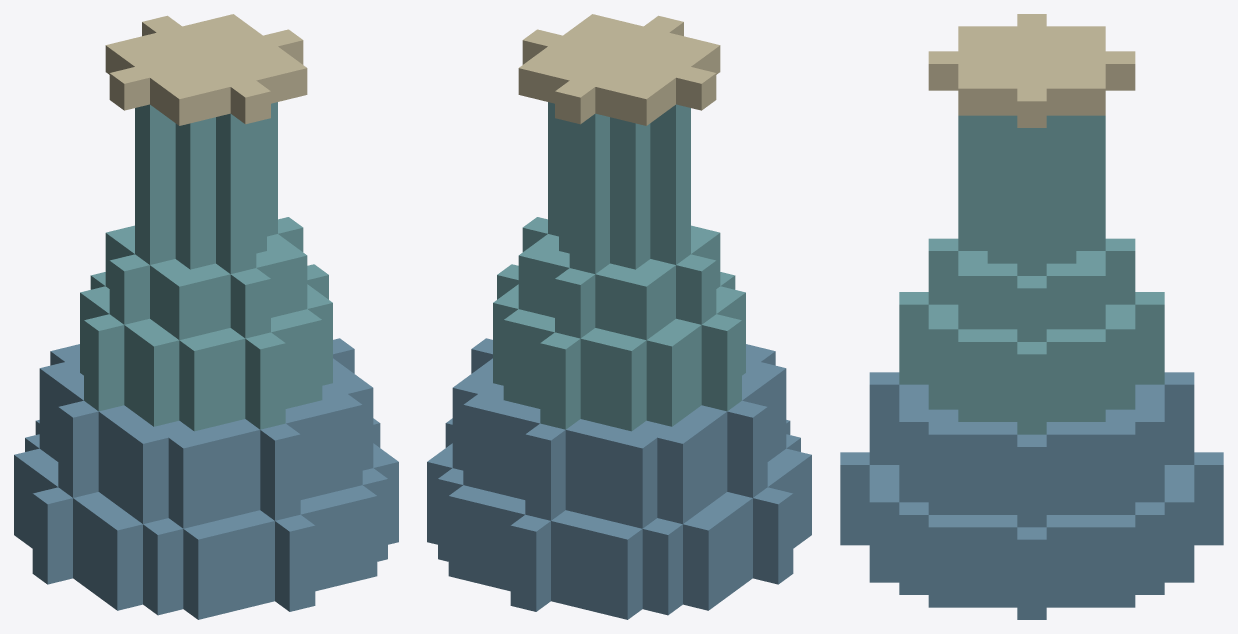
3 renders of one model, left to right at view 1: azimuth 30°, elevation 25°; view 2: azimuth 150°, elevation 25°; view 3: azimuth 270°, elevation 25°, orthographic.
Parts seen in each view (by area): view 1: Experiment flask; view 2: Experiment flask; view 3: Experiment flask.
Boxes of the visible parts, x1,y1,x2,y2 form: Experiment flask: (14, 14, 398, 619); Experiment flask: (427, 14, 811, 619); Experiment flask: (840, 14, 1223, 619).
Size of the model in its own units: 1.04 by 1.44 by 1.04.
